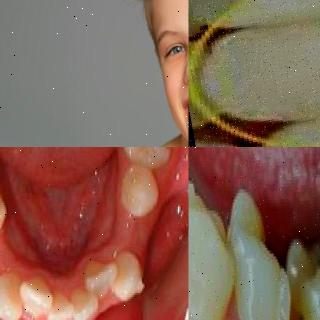cavities: (293, 245, 320, 296), (152, 147, 178, 153)
maligned: (77, 254, 123, 316), (18, 277, 59, 320), (106, 258, 144, 304), (0, 274, 26, 317), (46, 291, 73, 320)
